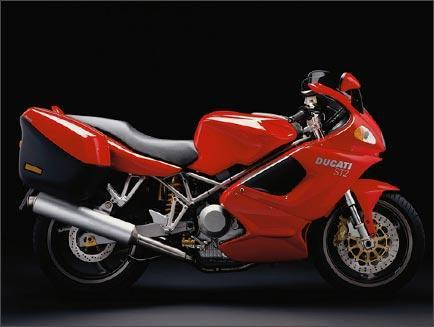motorcycle: (2, 60, 434, 304)
